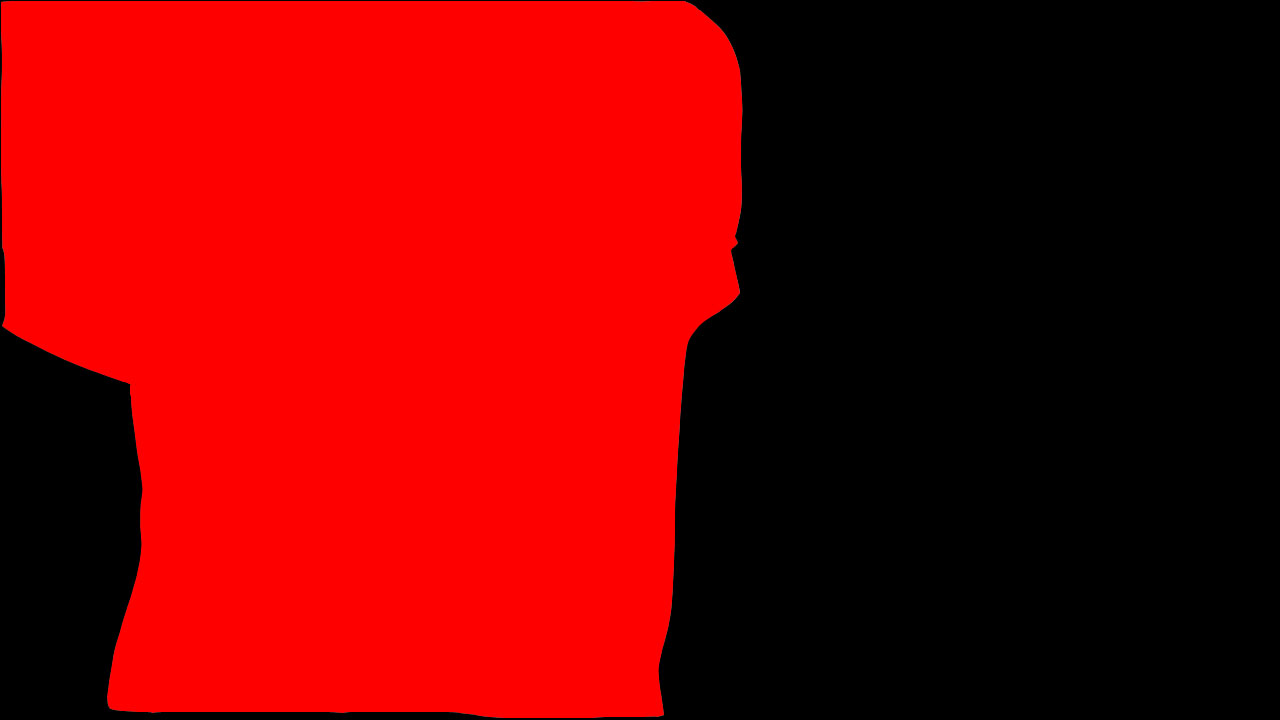uniforme_ifmt: (6, 6, 744, 720)
